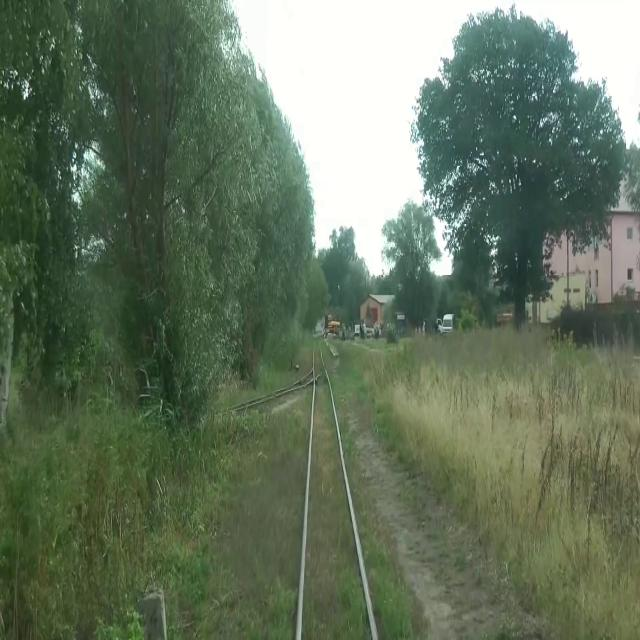rail-track: (301, 375, 372, 639), (315, 340, 323, 373)
